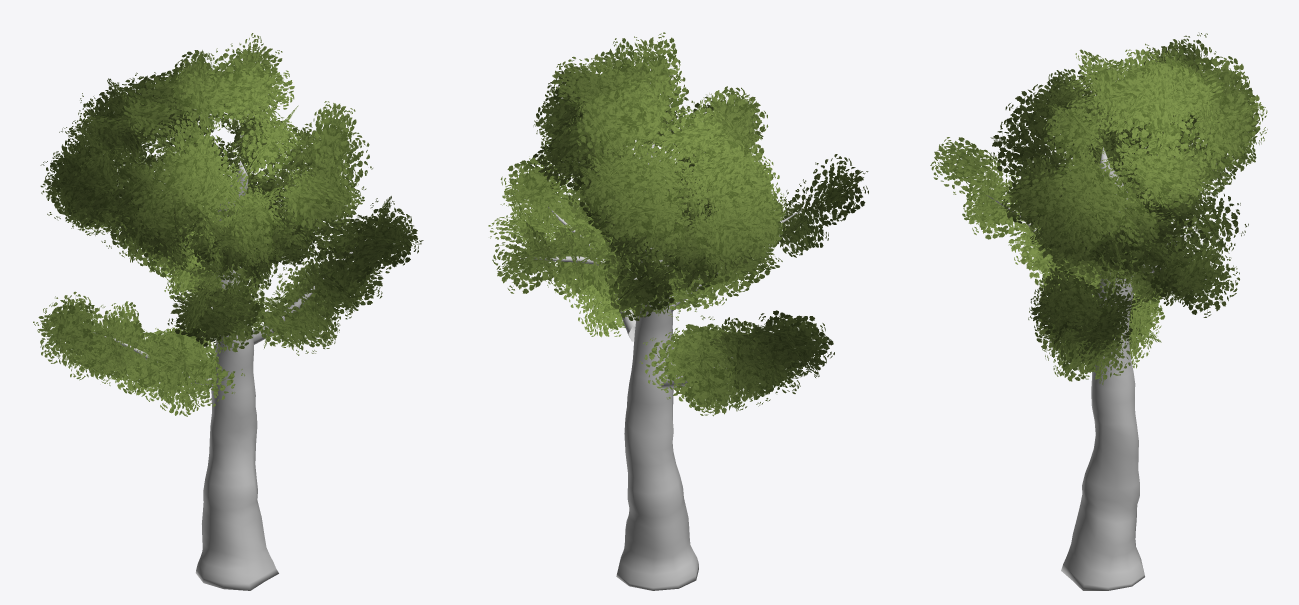
File: Tree_M1.fbx
3 views of the same model, side by side, from view 1: azimuth 30°, elevation 25°; view 2: azimuth 150°, elevation 25°; view 3: azimuth 270°, elevation 25° (orthographic). The views are drawn at different scales.
Parts seen in each view (by area): view 1: Tree_M1_Leaves1, Tree_M1; view 2: Tree_M1_Leaves1, Tree_M1; view 3: Tree_M1_Leaves1, Tree_M1.
Boxes of the visible parts, x1,y1,x2,y2 form: Tree_M1_Leaves1: (33, 33, 423, 416); Tree_M1: (93, 160, 366, 590); Tree_M1_Leaves1: (488, 32, 868, 416); Tree_M1: (520, 143, 801, 590); Tree_M1_Leaves1: (930, 32, 1267, 384); Tree_M1: (986, 147, 1211, 590).
Bounding box in the file's own units: 847 × 1152 × 713.
